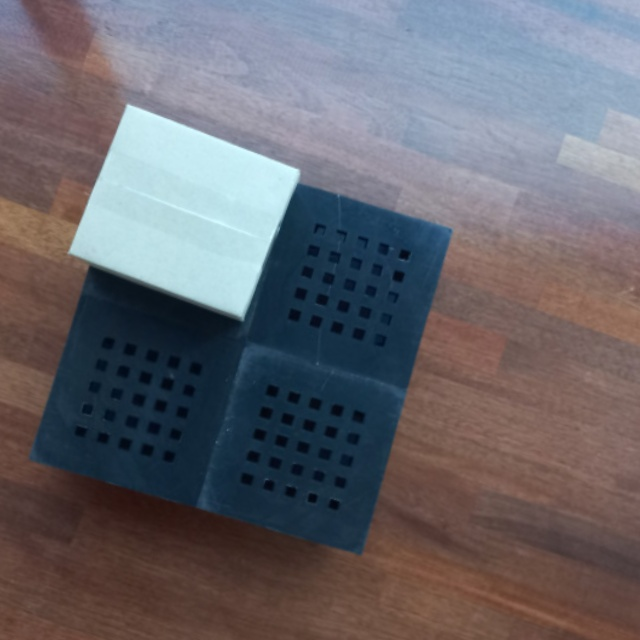box: (64, 98, 304, 327)
pallet: (21, 143, 460, 560)
